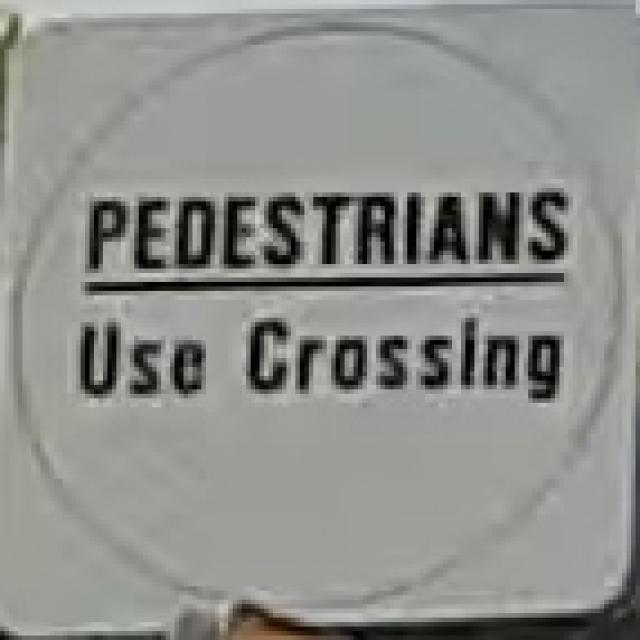pedestriancrossing_sign: (0, 0, 636, 636), (80, 184, 578, 278), (71, 309, 568, 403)
